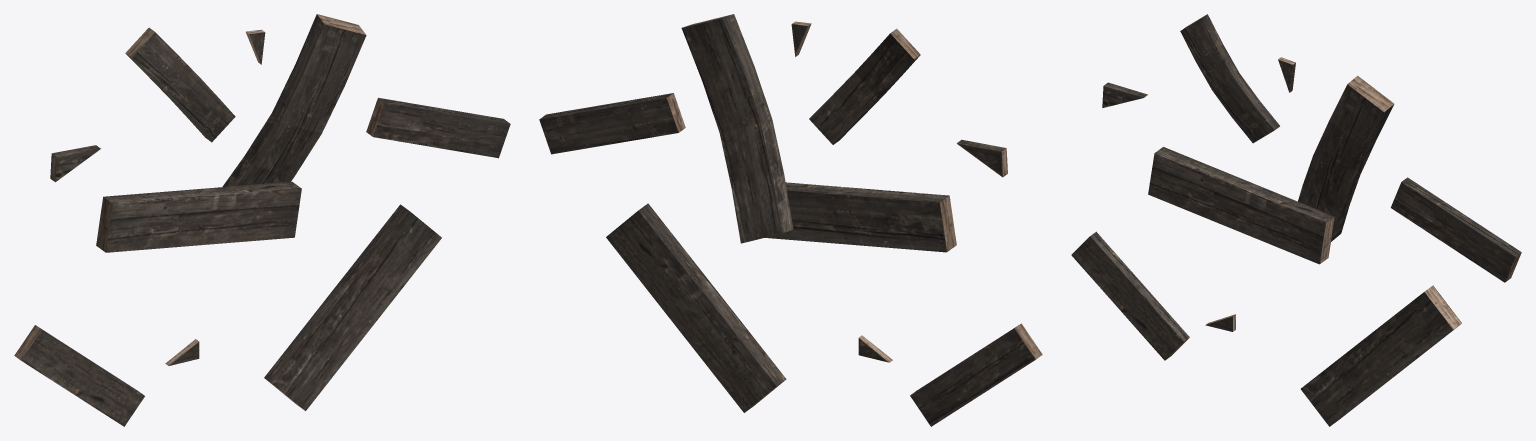
File: Rubble_b.fbx
The picture shows the model from 3 angles, left to right: view 1: azimuth 30°, elevation 25°; view 2: azimuth 150°, elevation 25°; view 3: azimuth 330°, elevation 25°; orthographic projection. The views are drawn at different scales.
Parts seen in each view (by area): view 1: Rubble_b; view 2: Rubble_b; view 3: Rubble_b.
Boxes of the visible parts, x1=… form: Rubble_b: x1=14, y1=14, x2=510, y2=426; Rubble_b: x1=539, y1=14, x2=1042, y2=426; Rubble_b: x1=1071, y1=14, x2=1521, y2=426.
Size of the model in its own units: 150 by 120 by 16.63.
